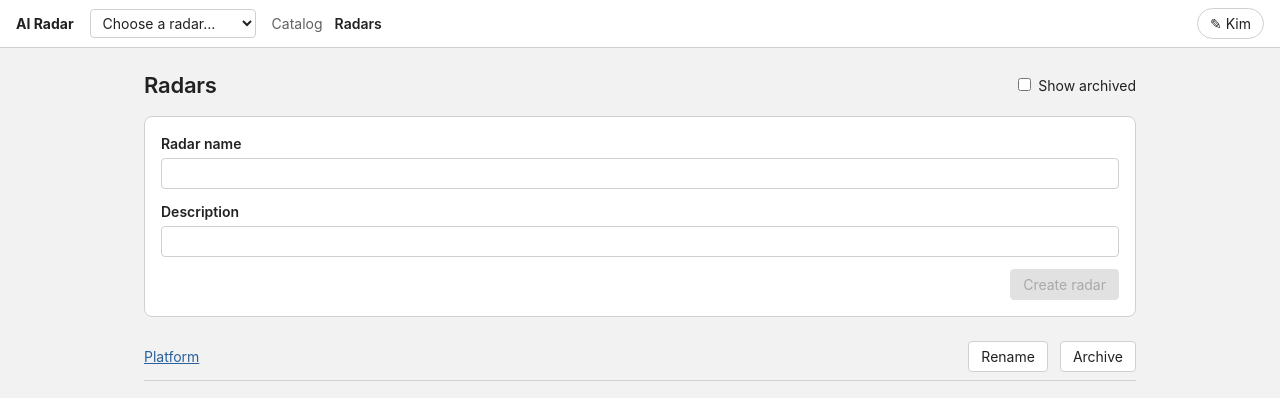
Test: RadarListPage › renames with the current version
Click the button with aria-label "Rename Platform": (1008, 356) [968,340,1048,372]
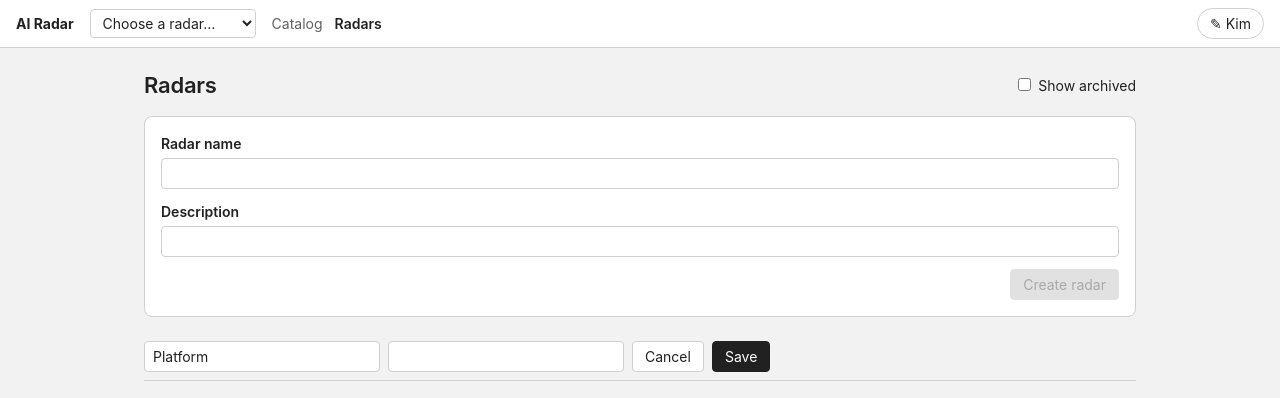
Replace the text in the field named "New name for Platform" with "Core": (262, 356) [144,340,380,372]
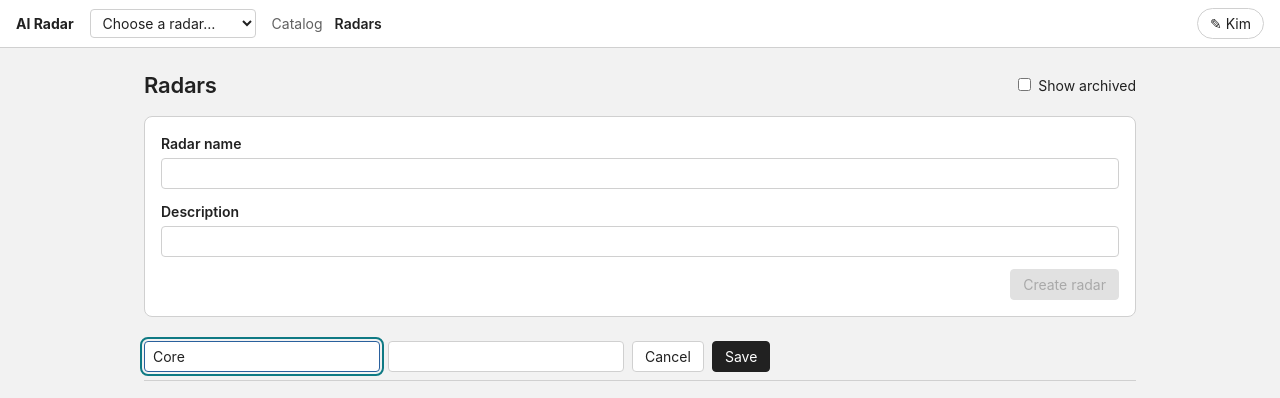
Click the button "Save": (741, 356) [712,340,770,372]
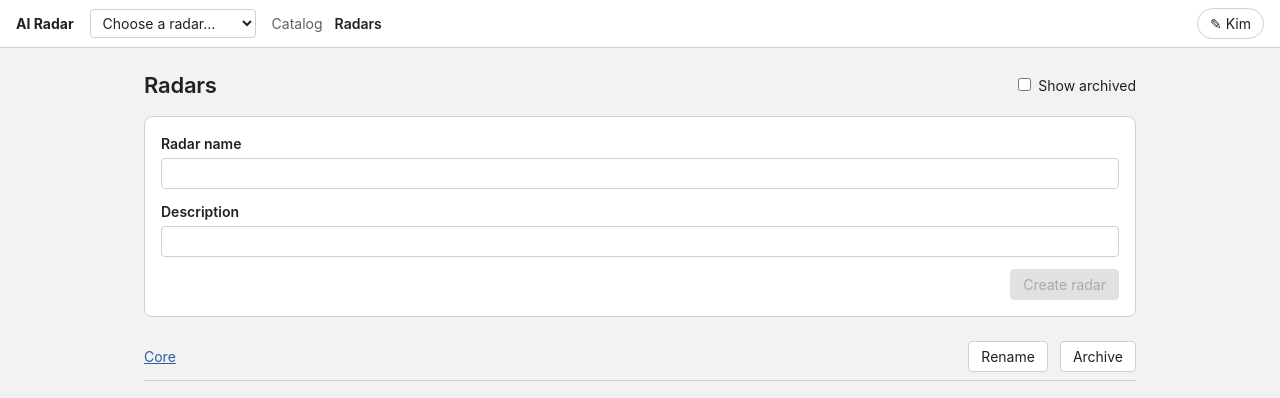
Now the link "Core" is shown, box [144,348,176,364]
